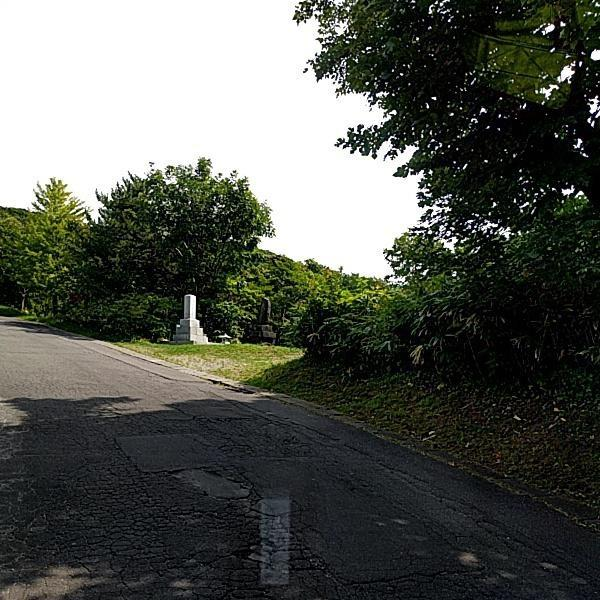pothole: (234, 537, 276, 565), (207, 377, 258, 399)
